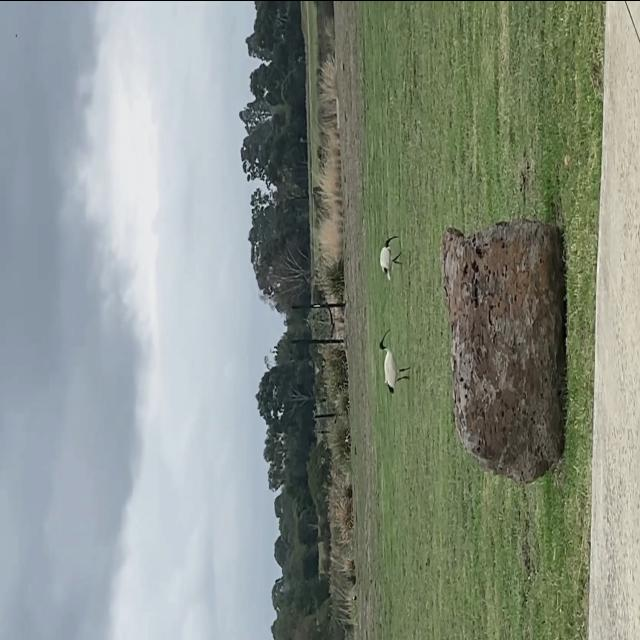Birds-Ibis: (374, 324, 414, 398), (376, 230, 408, 284)
